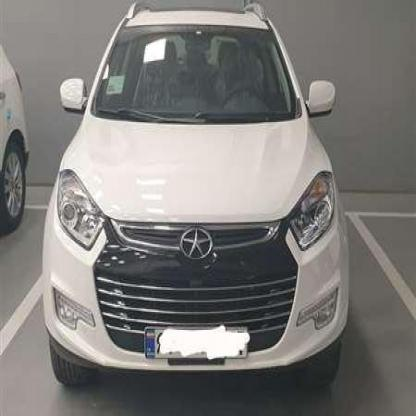Car: (46, 5, 350, 394), (0, 11, 37, 249)
